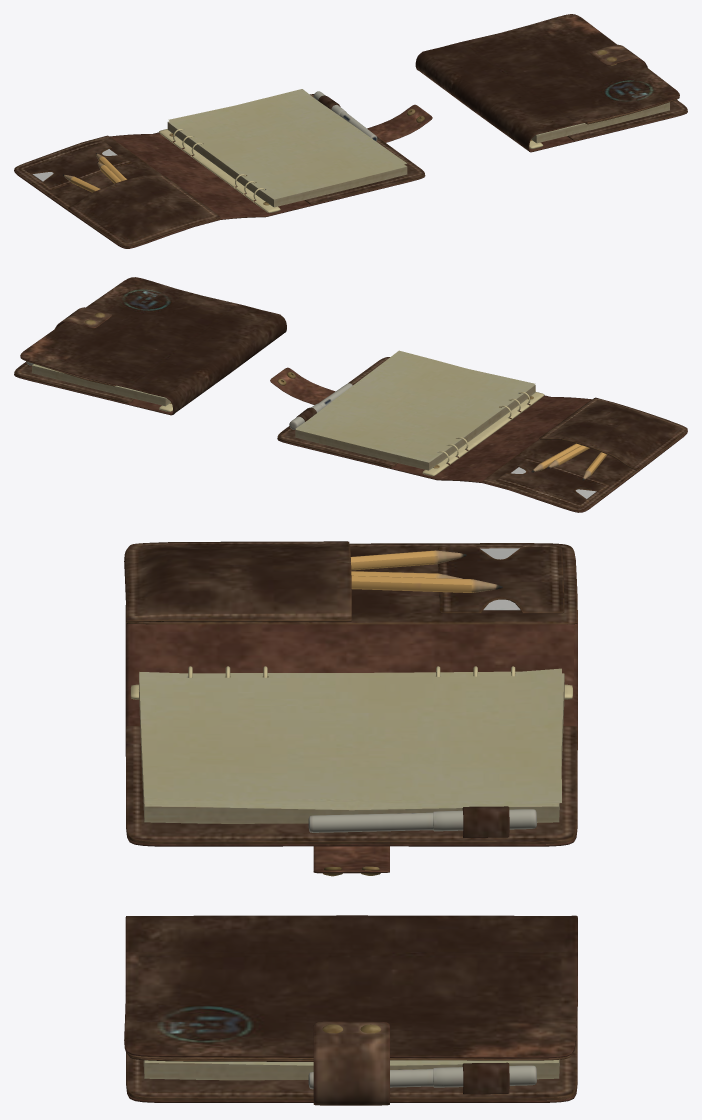
File: binder_notebook_1k.gltf
3 renders of one model, top to bottom at view 1: azimuth 30°, elevation 25°; view 2: azimuth 150°, elevation 25°; view 3: azimuth 270°, elevation 25°, orthographic. The views are drawn at different scales.
Visible parts, largest first — view 1: binder_notebook, binder_notebook_closed; view 2: binder_notebook, binder_notebook_closed; view 3: binder_notebook, binder_notebook_closed.
Boxes of the visible parts, left/top/right/bottom form: binder_notebook: left=14, top=89, right=432, bottom=248; binder_notebook_closed: left=415, top=14, right=687, bottom=152; binder_notebook: left=270, top=350, right=687, bottom=512; binder_notebook_closed: left=14, top=277, right=286, bottom=415; binder_notebook: left=124, top=541, right=577, bottom=876; binder_notebook_closed: left=124, top=915, right=577, bottom=1105.
Bounding box in the file's own units: 0.584 × 0.0253 × 0.2.
Materials: 1 (1 with a texture image).
